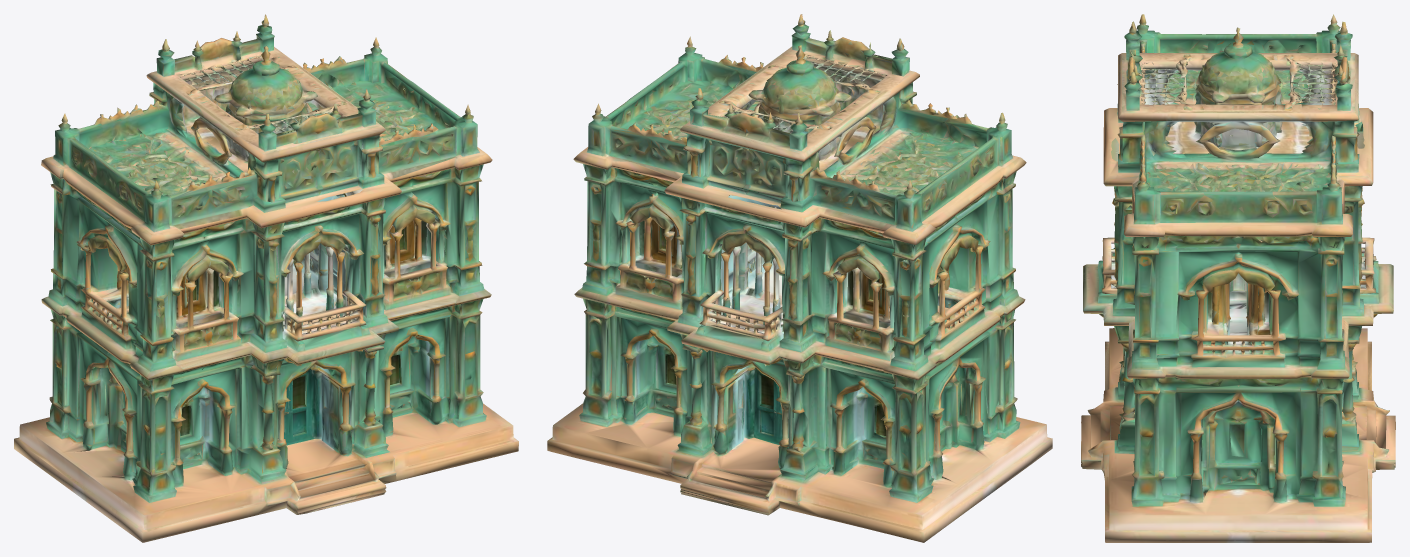
The model's file is Turquoise_Palace_of_G.glb.
3 views of the same model, side by side, from view 1: azimuth 30°, elevation 25°; view 2: azimuth 150°, elevation 25°; view 3: azimuth 270°, elevation 25° (orthographic). The views are drawn at different scales.
Visible parts, largest first — view 1: Turquoise_Palace_of_G; view 2: Turquoise_Palace_of_G; view 3: Turquoise_Palace_of_G.
Part boxes in pixels (x1,y1,x2,y2): Turquoise_Palace_of_G: (14,14,518,542); Turquoise_Palace_of_G: (547,14,1052,542); Turquoise_Palace_of_G: (1081,14,1395,542).
Bounding box in the file's own units: 1.85 × 1.9 × 1.29.
Materials: 1 (1 with a texture image).
